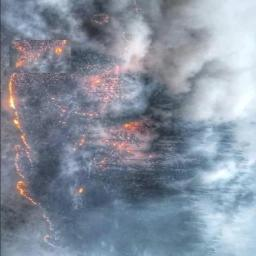Heavy smoke: (2, 0, 256, 255)
Large fire: (3, 33, 178, 213)
